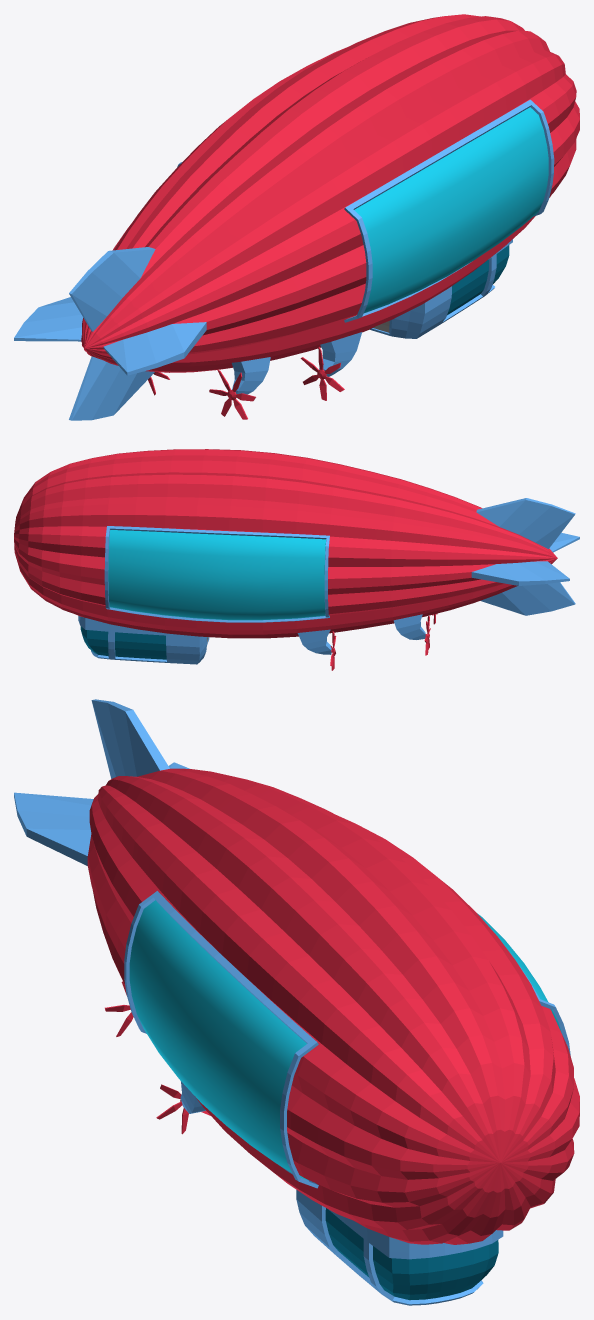
File: airplane.fbx
The picture shows the model from 3 angles, top to bottom: view 1: azimuth 30°, elevation 25°; view 2: azimuth 150°, elevation 25°; view 3: azimuth 270°, elevation 25°; orthographic projection. The views are drawn at different scales.
Parts seen in each view (by area): view 1: baloon, cube2, wings, cabin_1, cube, sper, propeller4, propeller2; view 2: baloon, cube2, wings, cabin_1, cube1, sper; view 3: baloon, cube2, cabin_1, wings, cube.
Part boxes in pixels (x1=…): baloon: x1=81, y1=14, x2=579, y2=372; cube2: x1=354, y1=107, x2=548, y2=316; wings: x1=14, y1=247, x2=206, y2=420; cabin_1: x1=369, y1=239, x2=512, y2=338; cube: x1=344, y1=99, x2=554, y2=322; sper: x1=231, y1=332, x2=361, y2=394; propeller4: x1=209, y1=369, x2=255, y2=419; propeller2: x1=300, y1=347, x2=344, y2=400; baloon: x1=14, y1=449, x2=557, y2=638; cube2: x1=108, y1=530, x2=326, y2=620; wings: x1=471, y1=498, x2=579, y2=615; cabin_1: x1=78, y1=616, x2=209, y2=664; cube1: x1=104, y1=526, x2=329, y2=622; sper: x1=297, y1=614, x2=425, y2=654; baloon: x1=87, y1=768, x2=579, y2=1244; cube2: x1=129, y1=900, x2=561, y2=1180; cabin_1: x1=296, y1=1190, x2=503, y2=1305; wings: x1=14, y1=699, x2=189, y2=865; cube: x1=124, y1=891, x2=318, y2=1188.
Size of the model in its own units: 724 by 287 by 428.
